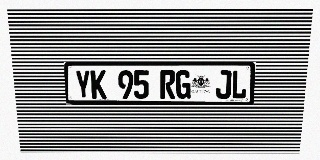5: (134, 70, 149, 99)
9: (118, 70, 134, 99)
G: (176, 70, 191, 99)
J: (215, 70, 232, 99)
K: (90, 70, 107, 99)
L: (231, 70, 248, 99)
R: (160, 70, 175, 99)
Y: (75, 70, 91, 99)
